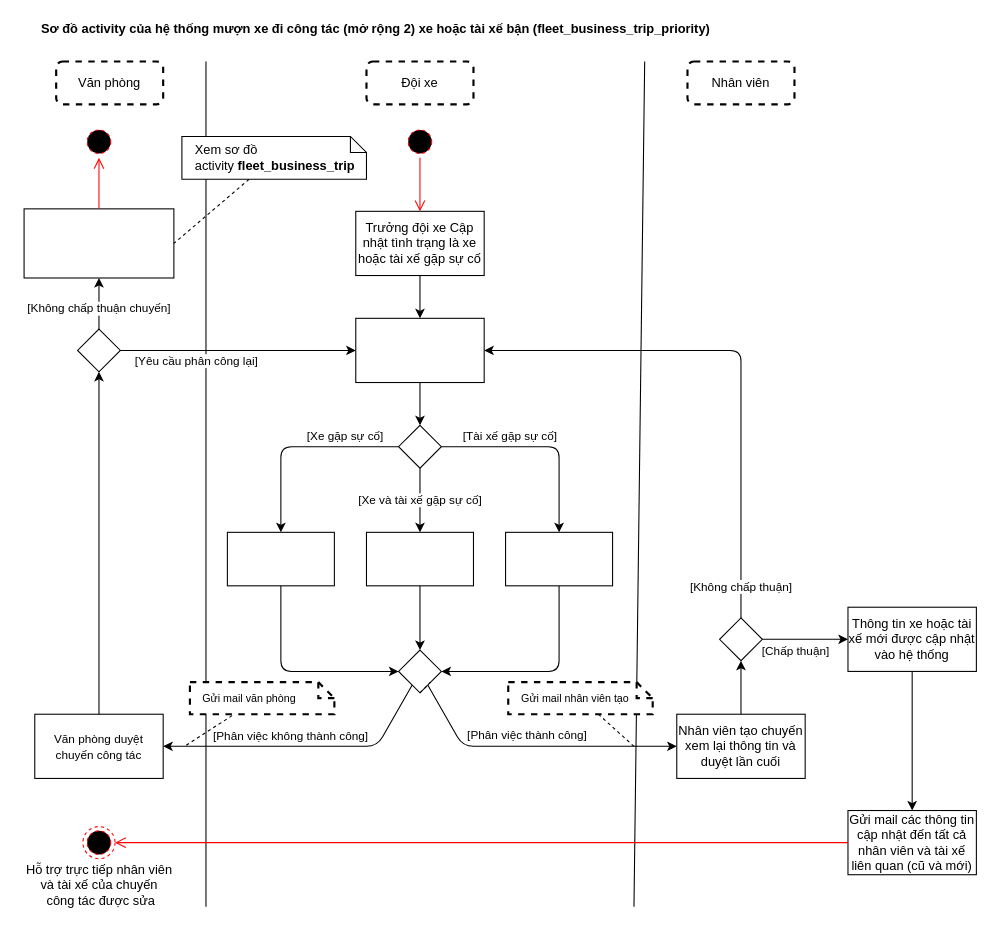
Some shapes in this 995 by 930 pixel diagram are drawn without their labels. Here are the shapes that lost their labels. From the top down, the box of each, then its label:
(23, 208, 174, 278): Yêu cầu nhân viên tạo quyệt định theo sơ đồ nền
(355, 317, 484, 383): Trưởng đội xe Cập nhật và phân công xe/ tài xế thay thế
(226, 531, 334, 586): Cập nhật tình trạng và phân xe khác cùng model
(365, 531, 473, 586): Xe và tài xế gặp sự cố
(505, 531, 613, 586): Cập nhật tình trạng và phân tài xế mới
